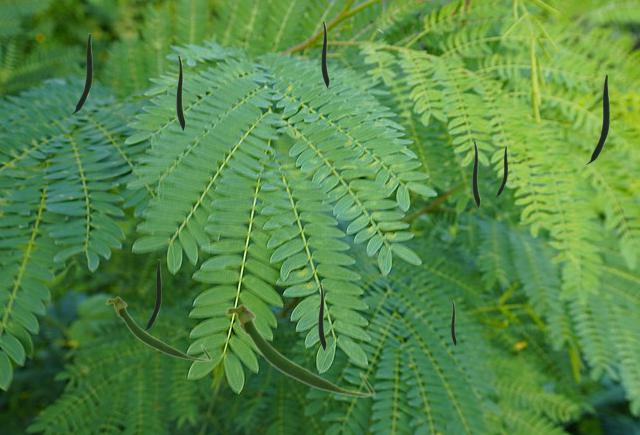french_bean: (224, 303, 375, 397), (105, 295, 211, 361), (586, 74, 608, 163), (71, 33, 91, 113), (144, 259, 160, 330), (176, 54, 184, 130), (495, 146, 506, 196), (318, 283, 325, 350), (472, 140, 479, 207), (321, 20, 328, 87), (451, 300, 455, 345)
